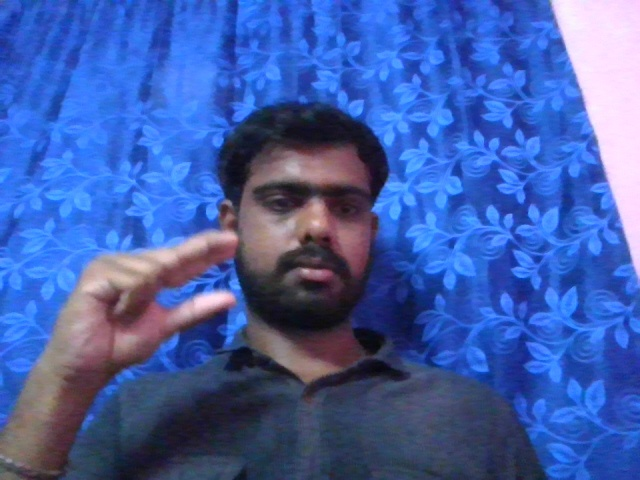No: (47, 225, 243, 359)
